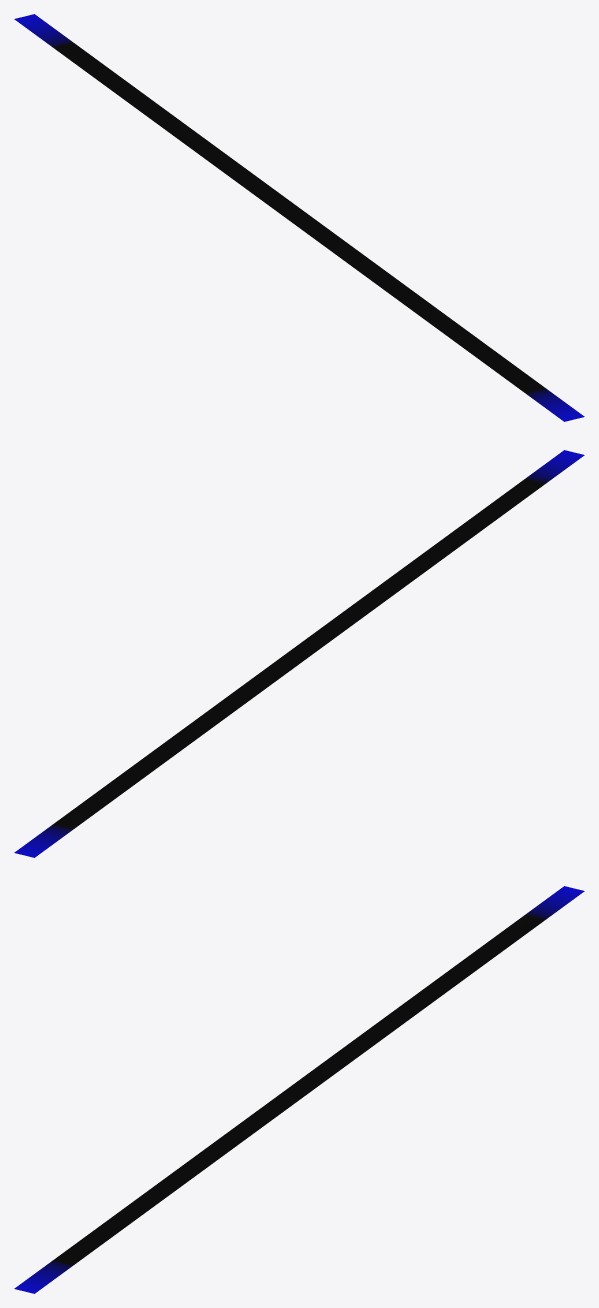
File: Raceline_Ribbon.fbx
3 views of the same model, one above another, from view 1: azimuth 30°, elevation 25°; view 2: azimuth 150°, elevation 25°; view 3: azimuth 330°, elevation 25° (orthographic).
Parts seen in each view (by area): view 1: Raceline_Ribbon; view 2: Raceline_Ribbon; view 3: Raceline_Ribbon.
Boxes of the visible parts, x1,y1,x2,y2 form: Raceline_Ribbon: (14, 14, 584, 421); Raceline_Ribbon: (14, 450, 584, 857); Raceline_Ribbon: (14, 886, 584, 1293).
Bounding box in the file's own units: 2 × 0 × 92.42.
